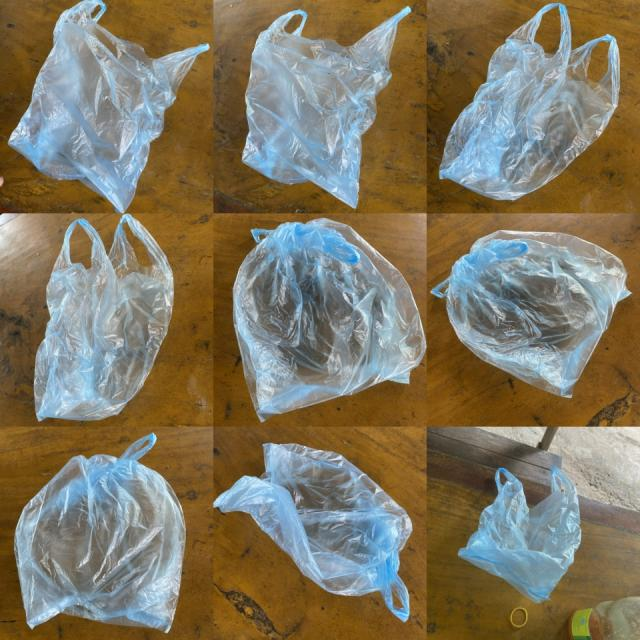Single-layer Plastic: (9, 0, 209, 212), (234, 219, 425, 421), (440, 4, 620, 200), (214, 444, 412, 621), (242, 6, 411, 208), (15, 434, 185, 632), (431, 230, 631, 398), (34, 214, 174, 421), (459, 466, 580, 602)
